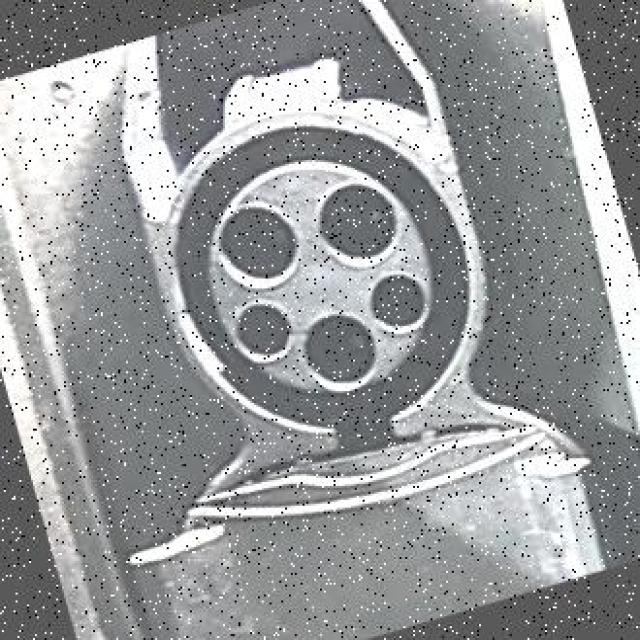Type 1: (172, 161, 510, 405)
